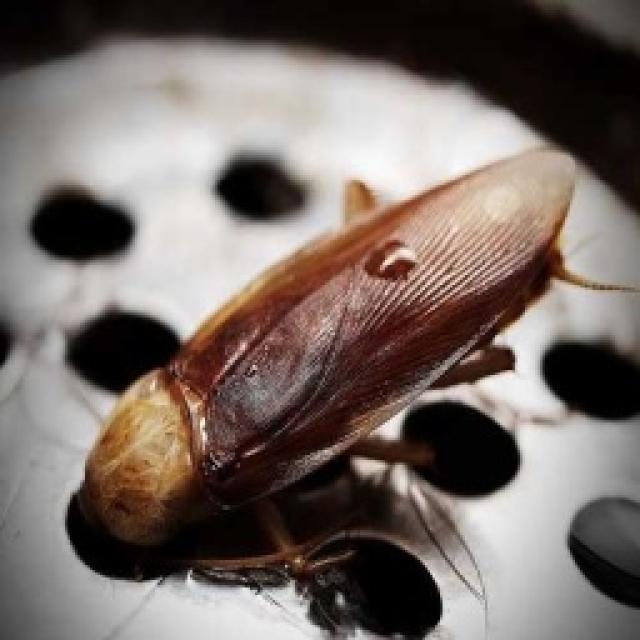cockroach: (72, 143, 633, 636)
